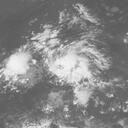cyclone: (44, 42, 93, 88)
